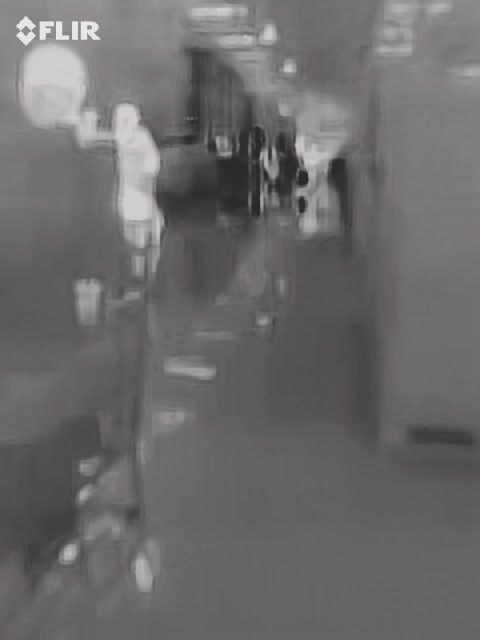head: (20, 44, 87, 127)
